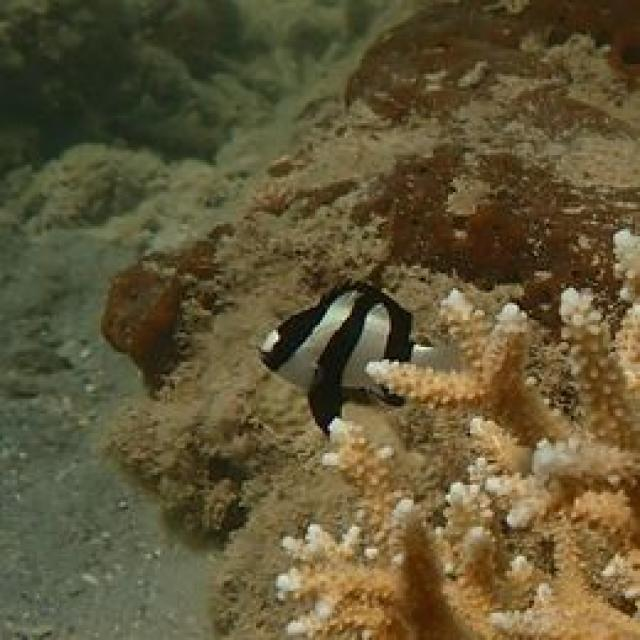Three_striped DasmselFish: (254, 280, 447, 436)
